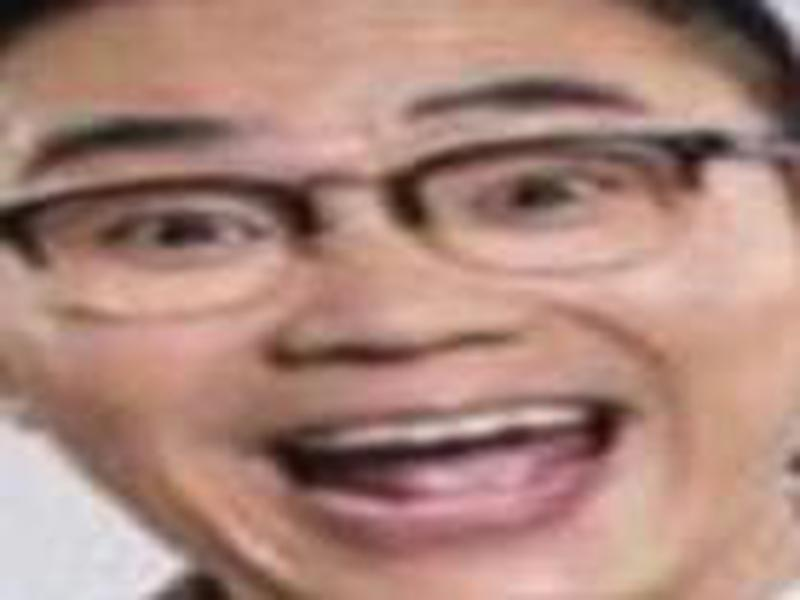without_mask: (2, 40, 800, 600)
